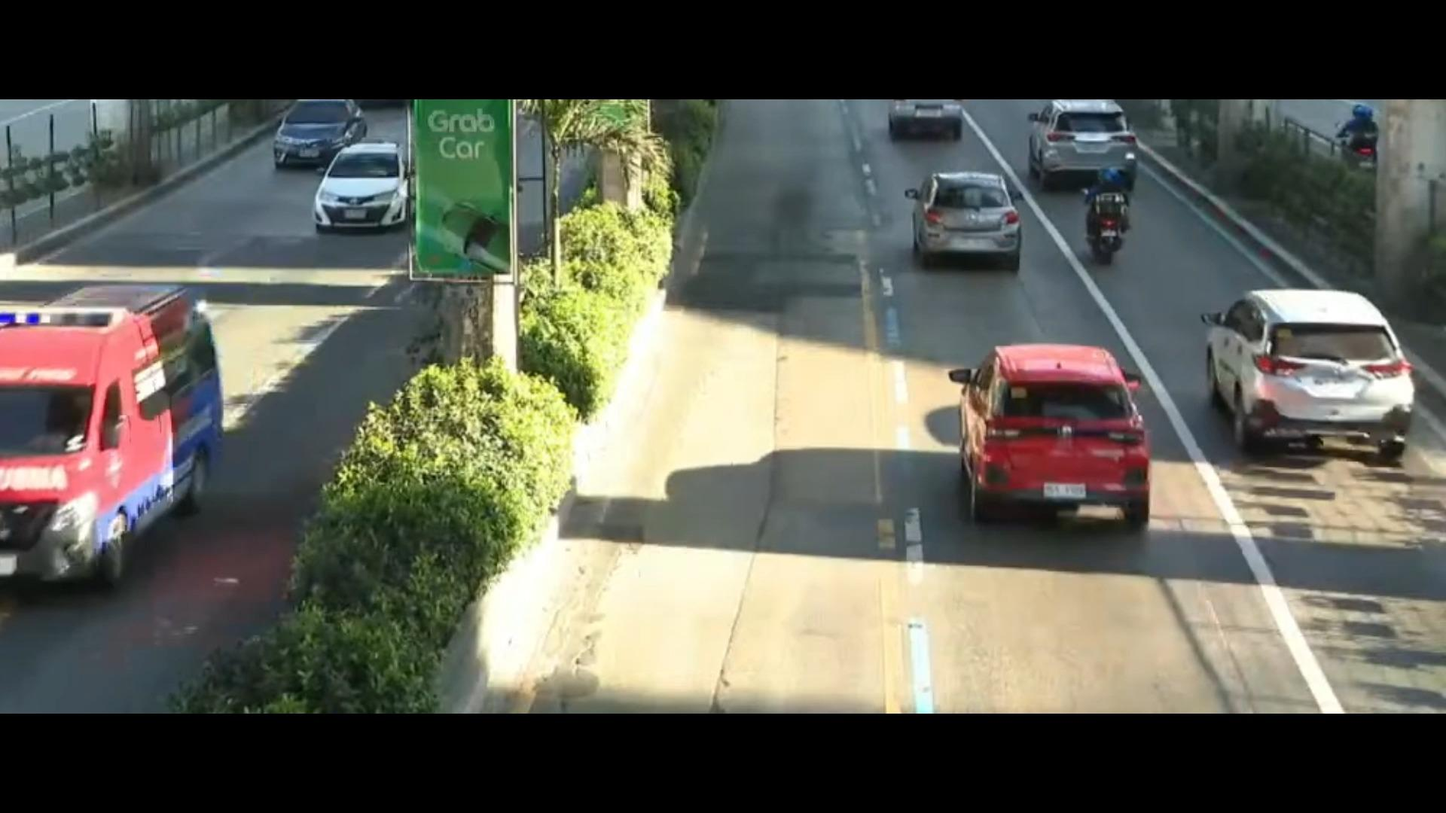Motorcycle: (1069, 164, 1132, 274)
SUV: (939, 305, 1175, 538), (1192, 251, 1446, 462), (1021, 100, 1147, 176)
Sedan: (304, 130, 426, 237), (908, 158, 1036, 255), (256, 105, 376, 172)
ambulance: (0, 262, 285, 583)
